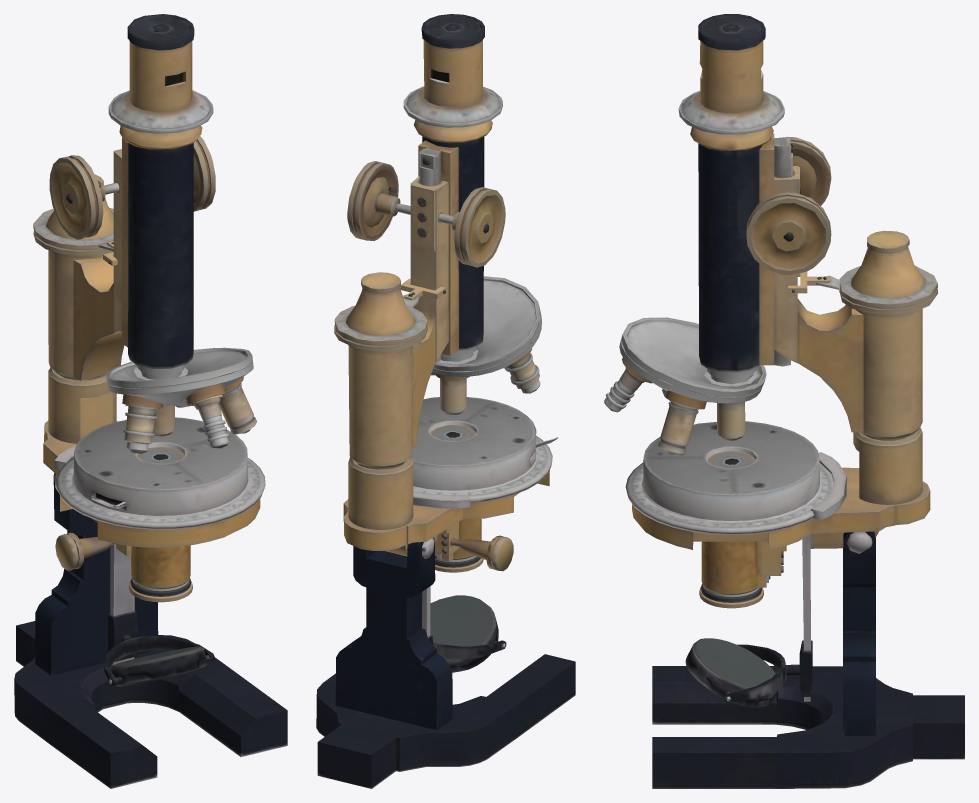
File: vintage_microscope.9689637f.glb
3 renders of one model, left to right at view 1: azimuth 30°, elevation 25°; view 2: azimuth 150°, elevation 25°; view 3: azimuth 270°, elevation 25°, orthographic. The views are drawn at different scales.
Parts seen in each view (by area): view 1: vintage_microscope_rack_mount_support, vintage_microscope_eye_piece, vintage_microscope_base, vintage_microscope_revolver, vintage_microscope_adjustment, vintage_microscope_mirror_arm, vintage_microscope_condenser, vintage_microscope_mirror_base; view 2: vintage_microscope_rack_mount_support, vintage_microscope_base, vintage_microscope_eye_piece, vintage_microscope_adjustment, vintage_microscope_mirror_base, vintage_microscope_revolver, vintage_microscope_condenser, vintage_microscope_mirror_arm; view 3: vintage_microscope_rack_mount_support, vintage_microscope_base, vintage_microscope_eye_piece, vintage_microscope_adjustment, vintage_microscope_revolver, vintage_microscope_condenser, vintage_microscope_mirror_base, vintage_microscope_mirror_arm.
Boxes of the visible parts, x1=… form: vintage_microscope_rack_mount_support: x1=33, y1=149, x2=265, y2=570; vintage_microscope_eye_piece: x1=105, y1=14, x2=252, y2=387; vintage_microscope_base: x1=14, y1=473, x2=287, y2=788; vintage_microscope_revolver: x1=107, y1=362, x2=256, y2=453; vintage_microscope_adjustment: x1=49, y1=136, x2=215, y2=239; vintage_microscope_mirror_arm: x1=104, y1=544, x2=214, y2=685; vintage_microscope_condenser: x1=129, y1=446, x2=192, y2=602; vintage_microscope_mirror_base: x1=111, y1=646, x2=207, y2=686; vintage_microscope_rack_mount_support: x1=334, y1=176, x2=557, y2=571; vintage_microscope_base: x1=316, y1=537, x2=575, y2=788; vintage_microscope_eye_piece: x1=403, y1=14, x2=541, y2=371; vintage_microscope_adjustment: x1=347, y1=161, x2=505, y2=267; vintage_microscope_mirror_base: x1=430, y1=595, x2=498, y2=672; vintage_microscope_revolver: x1=431, y1=315, x2=541, y2=414; vintage_microscope_condenser: x1=430, y1=425, x2=483, y2=572; vintage_microscope_mirror_arm: x1=422, y1=586, x2=506, y2=659; vintage_microscope_rack_mount_support: x1=625, y1=166, x2=937, y2=575; vintage_microscope_base: x1=652, y1=531, x2=964, y2=788; vintage_microscope_eye_piece: x1=621, y1=14, x2=792, y2=397; vintage_microscope_adjustment: x1=746, y1=136, x2=831, y2=275; vintage_microscope_revolver: x1=604, y1=338, x2=762, y2=455; vintage_microscope_condenser: x1=699, y1=451, x2=770, y2=608; vintage_microscope_mirror_base: x1=685, y1=638, x2=778, y2=707; vintage_microscope_mirror_arm: x1=723, y1=534, x2=812, y2=702.
Bounding box in the file's own units: 0.2673 × 1 × 0.4552.
2 materials, 2 textured.
